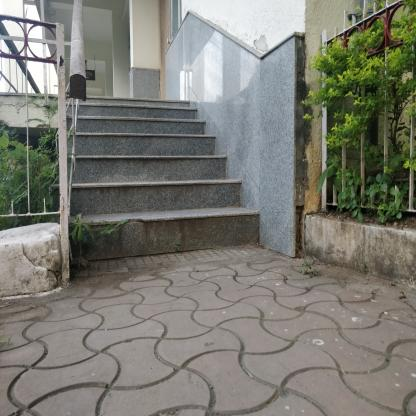stairs: (84, 119, 208, 265)
